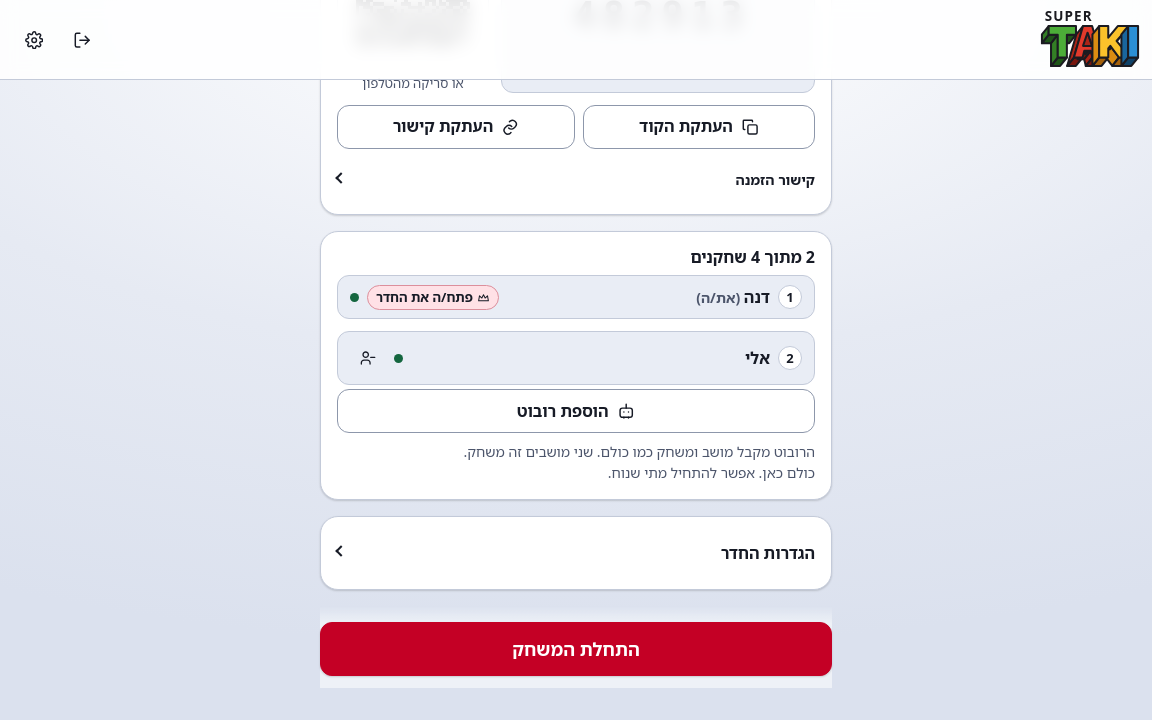
it: robots in the lobby › reads the answer off the table, not off a local guess
The image size is (1152, 720).
(page scrolled)
Click the heading "הגדרות החדר". click: (768, 553)
box: 721,542 -> 815,564
(page scrolled)
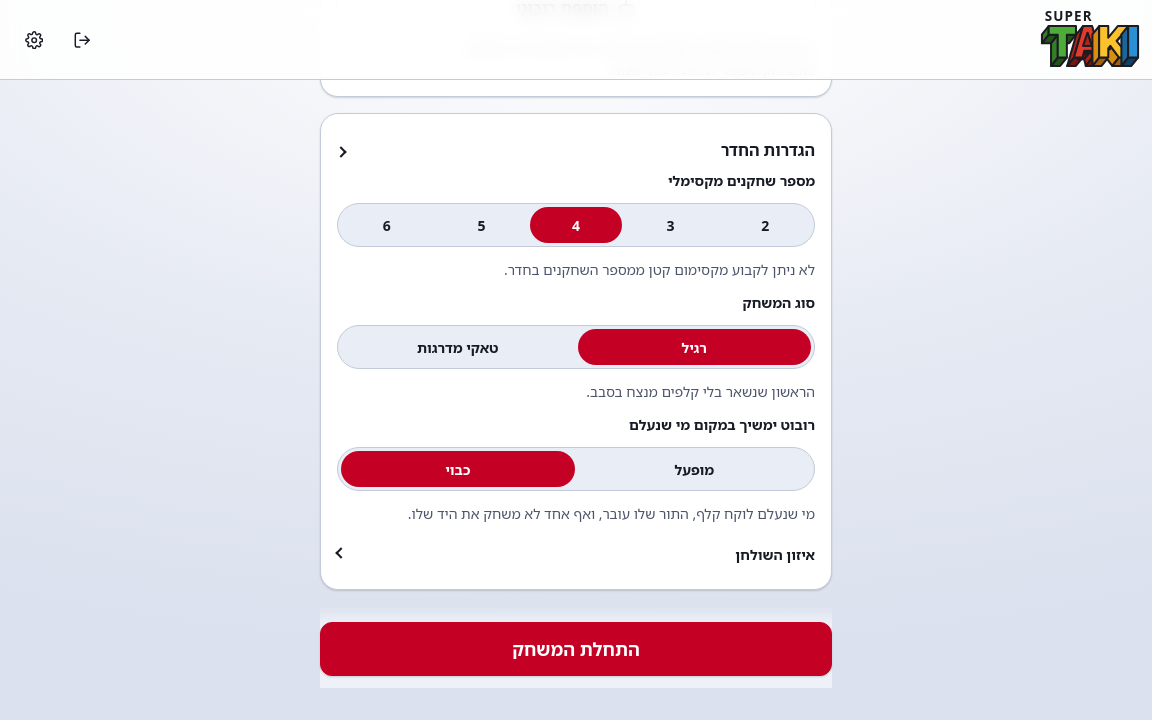
Check: the text "מי שנעלם לוקח קלף" is shown, box 408,504 -> 815,523
